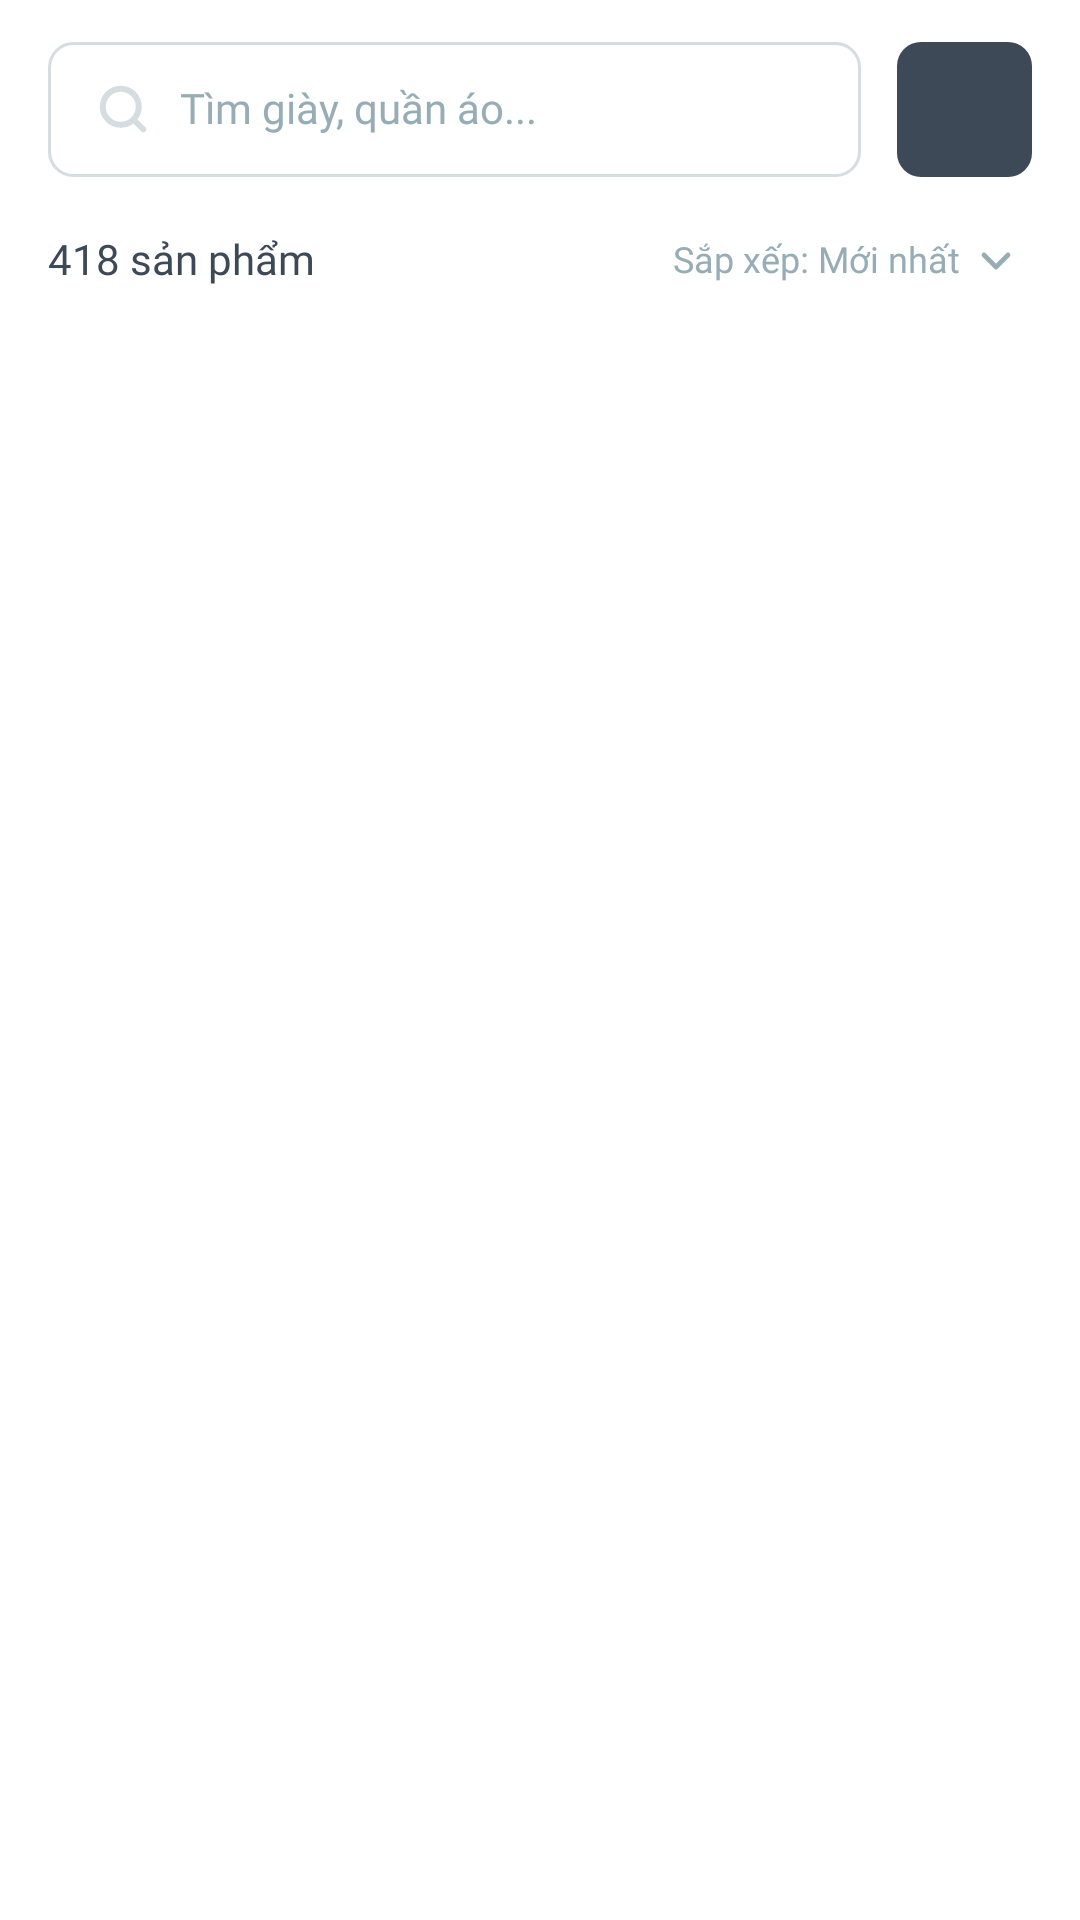

Icon bounding boxes for this 1080 × 1920 phone screenshot, format (x1=x1, y1=y1, x2=x2, y2=y2):
seller down: (x1=981, y1=252, x2=1011, y2=270)
seller search: (x1=100, y1=86, x2=146, y2=132)
